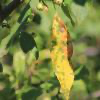Apple Scab Leaf: (48, 11, 76, 99)
